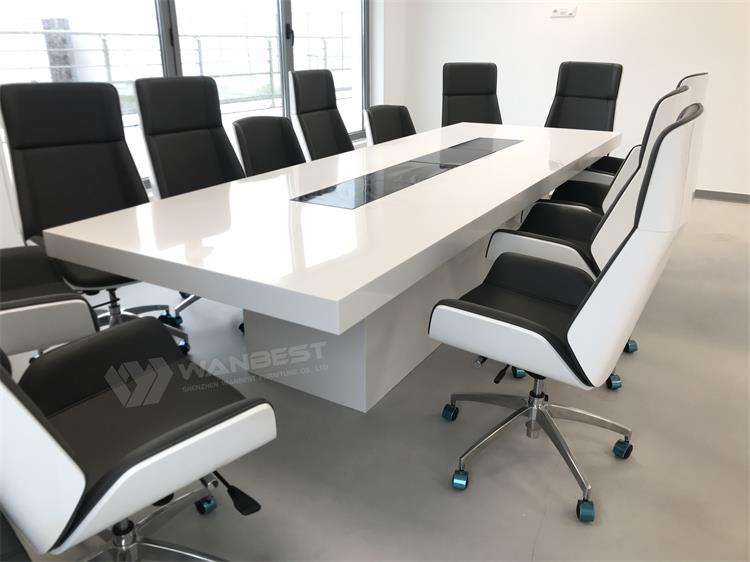conference_table: (42, 123, 623, 413)
